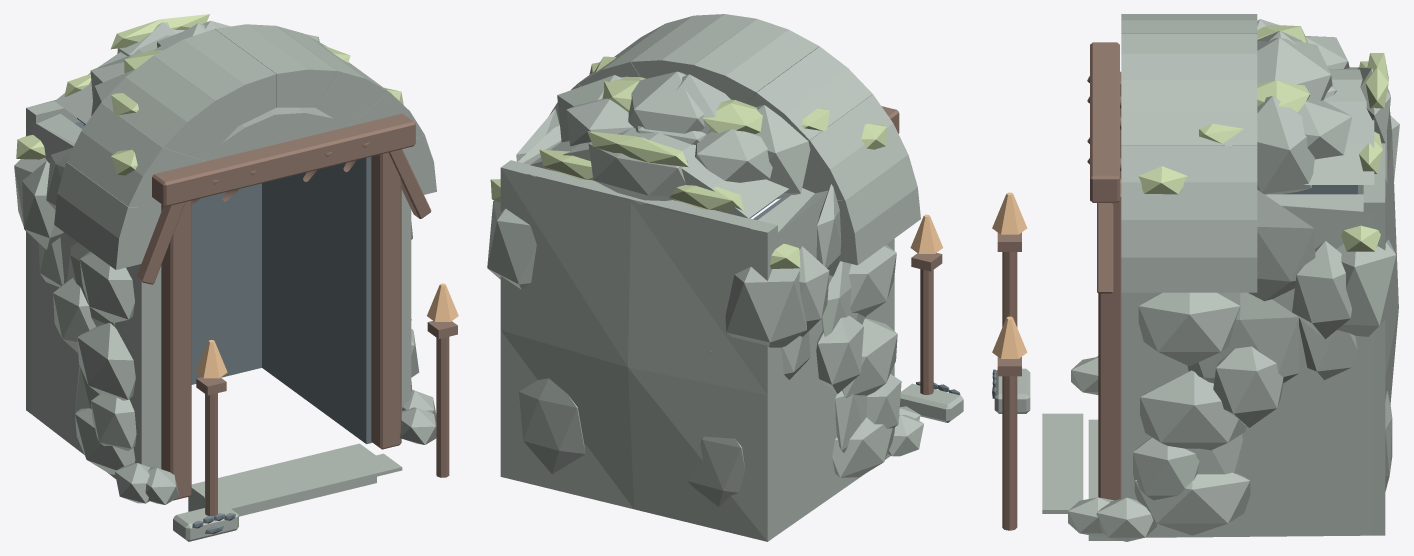
File: world_dungeon_entrance.fbx
The picture shows the model from 3 angles, left to right: view 1: azimuth 30°, elevation 25°; view 2: azimuth 150°, elevation 25°; view 3: azimuth 270°, elevation 25°; orthographic projection. The views are drawn at different scales.
Visible parts, largest first — view 1: world_dungeon_entrance_mesh; view 2: world_dungeon_entrance_mesh; view 3: world_dungeon_entrance_mesh.
Boxes of the visible parts, x1=… form: world_dungeon_entrance_mesh: x1=14, y1=14, x2=458, y2=541; world_dungeon_entrance_mesh: x1=487, y1=14, x2=963, y2=541; world_dungeon_entrance_mesh: x1=992, y1=14, x2=1399, y2=541.
Size of the model in its own units: 3 by 3.74 by 3.
